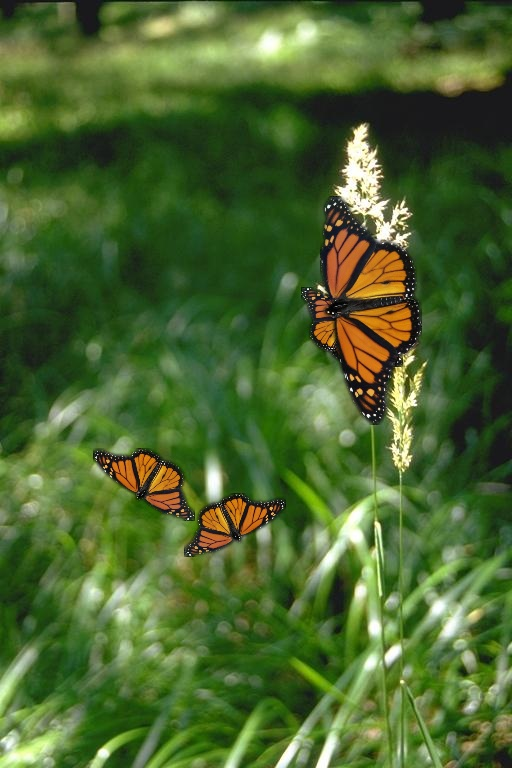danaus_plexippus: (320, 196, 422, 425), (301, 287, 403, 367), (93, 448, 195, 521), (184, 493, 286, 557)
